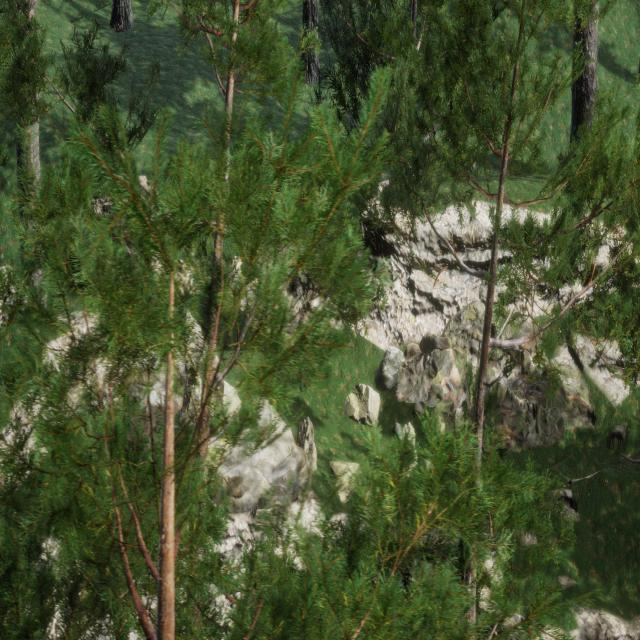Human: (296, 309, 310, 402)
